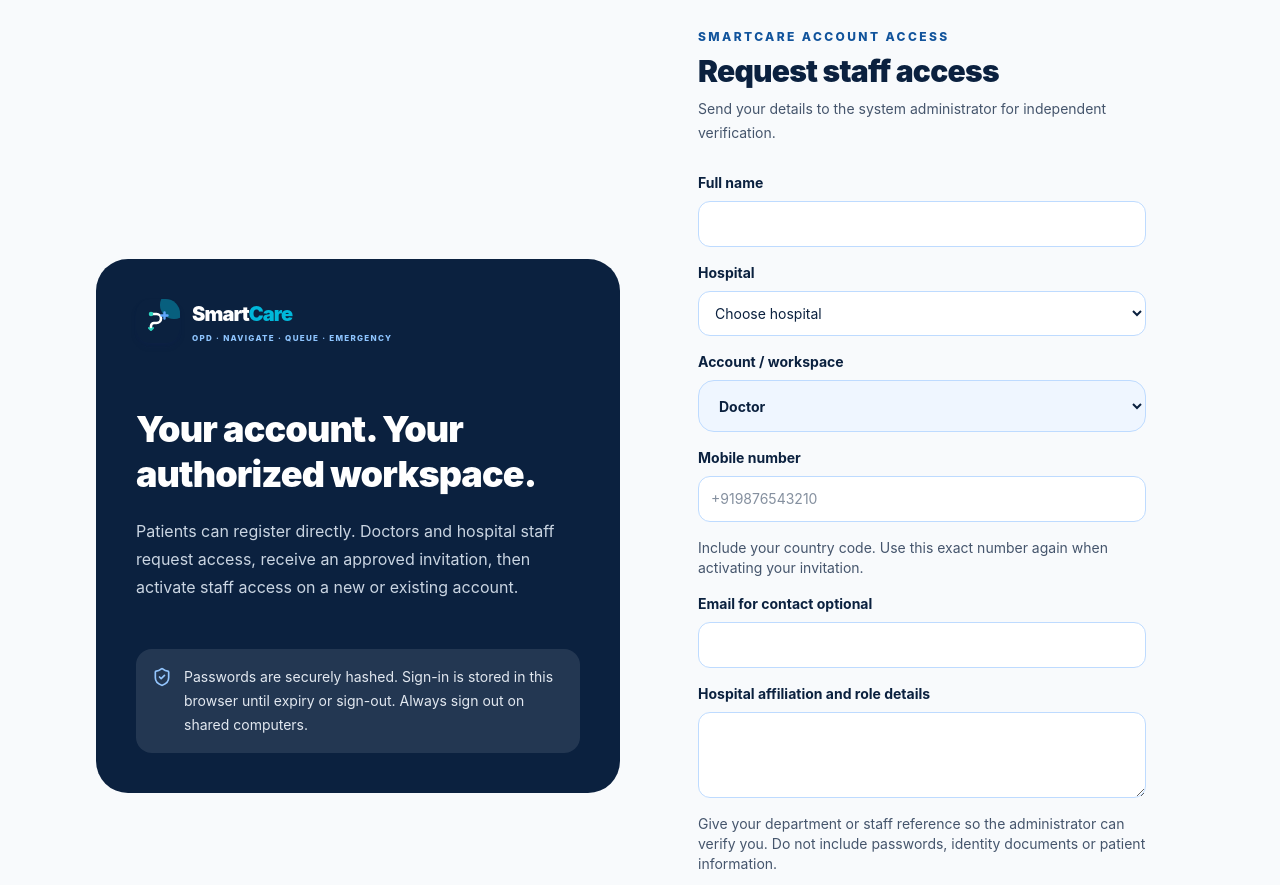
requests review without creating an account or claiming automatic code delivery
Type "Test Clerk" into the field labelled "Full name" at (922, 224), box [698,201,1146,247]
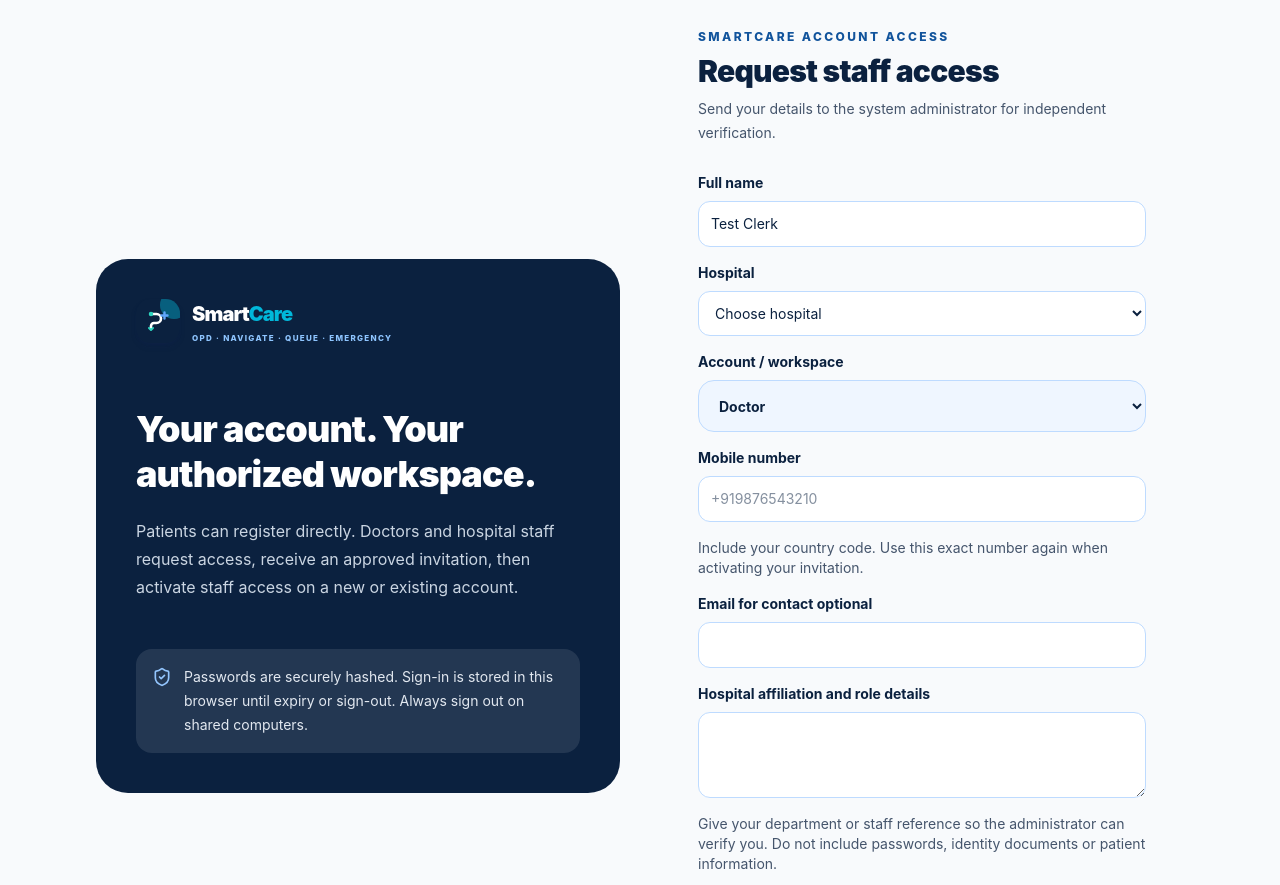
Select "Hospital" in the dropdown labelled "Hospital" at (922, 314), box [698,291,1146,336]
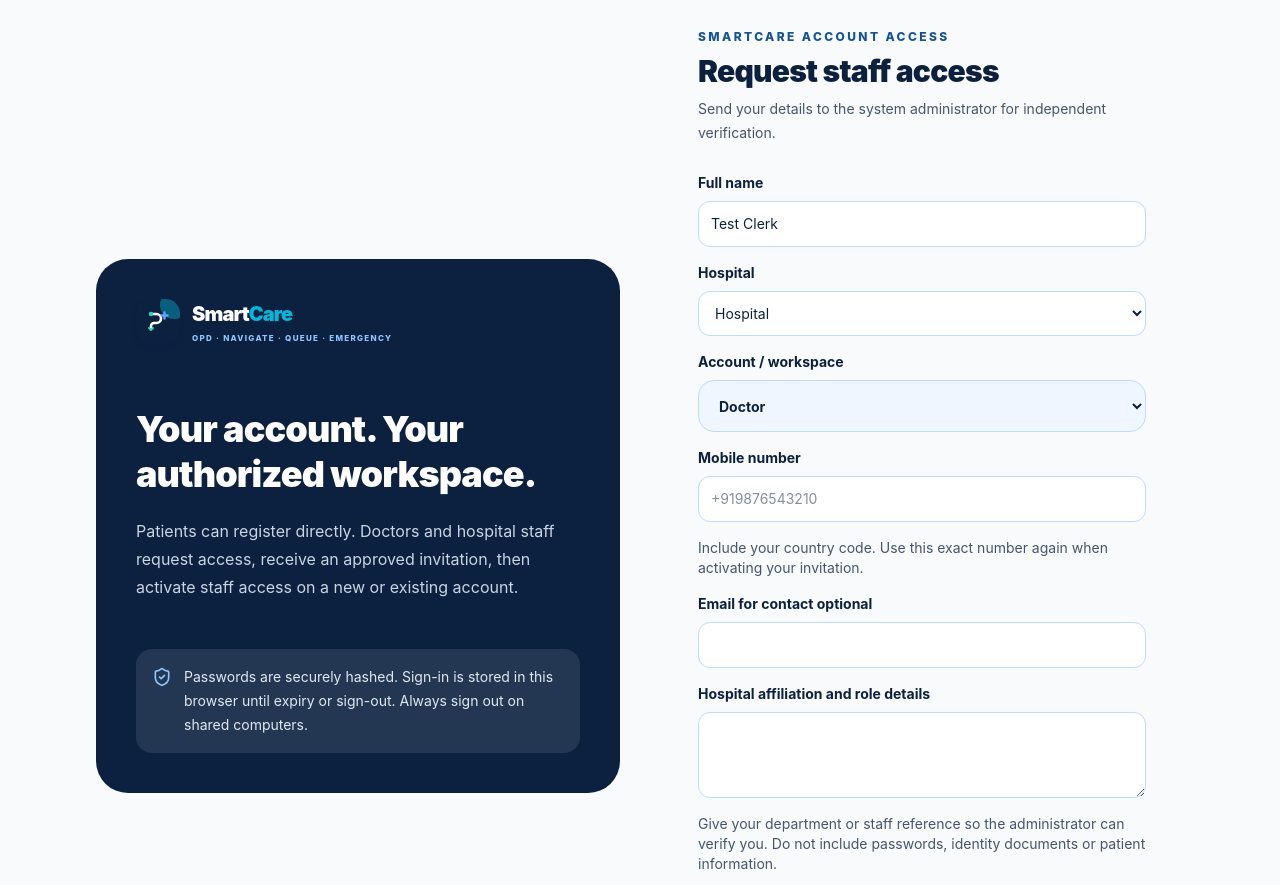
Select "Office clerk (desk & cash)" in the dropdown labelled "Account / workspace" at (922, 406), box [698,380,1146,432]
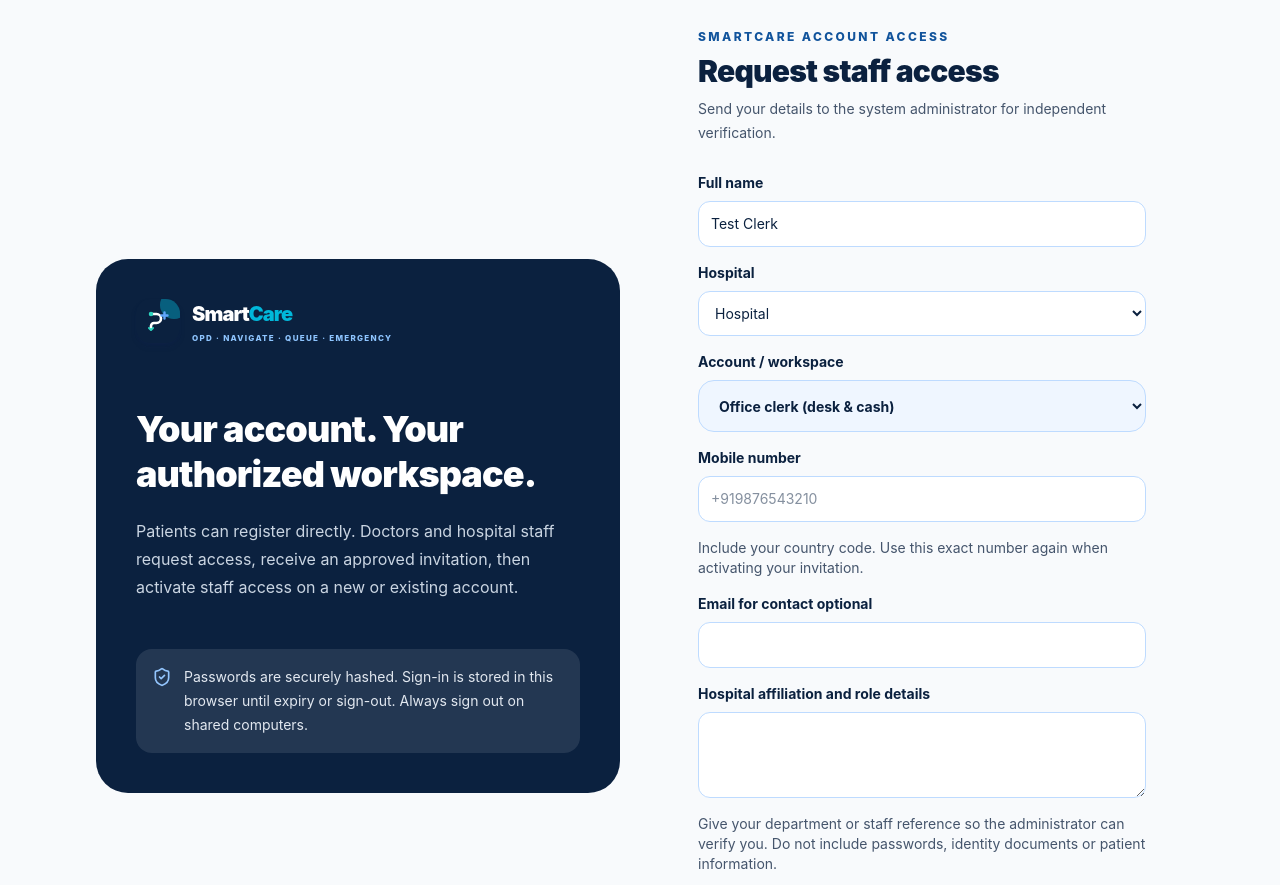
Type "+919000001111" into the field labelled "Mobile number" at (922, 499), box [698,476,1146,522]
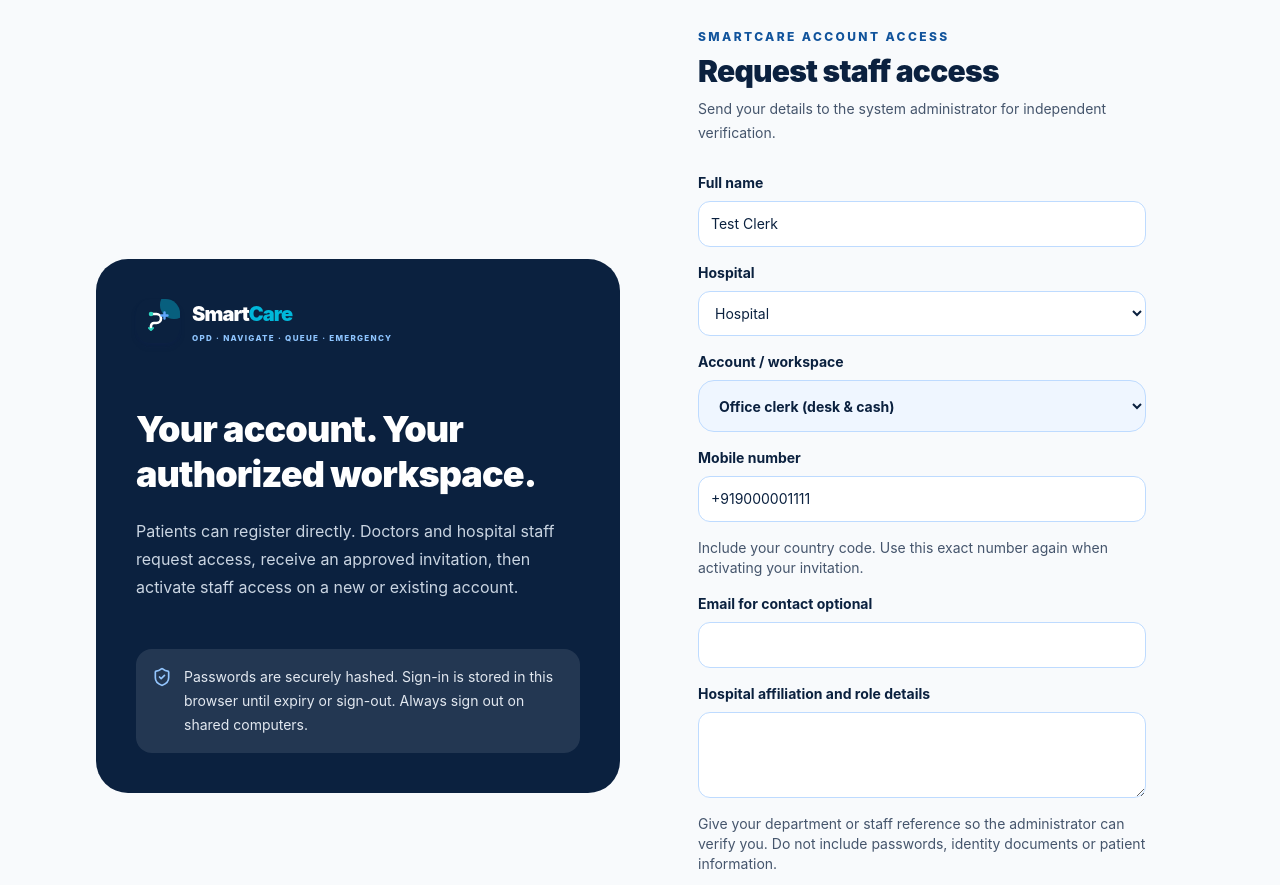
Type "Verified desk staff reference" into the text box labelled "Hospital affiliation and role details" at (922, 755), box [698,712,1146,798]
(page scrolled)
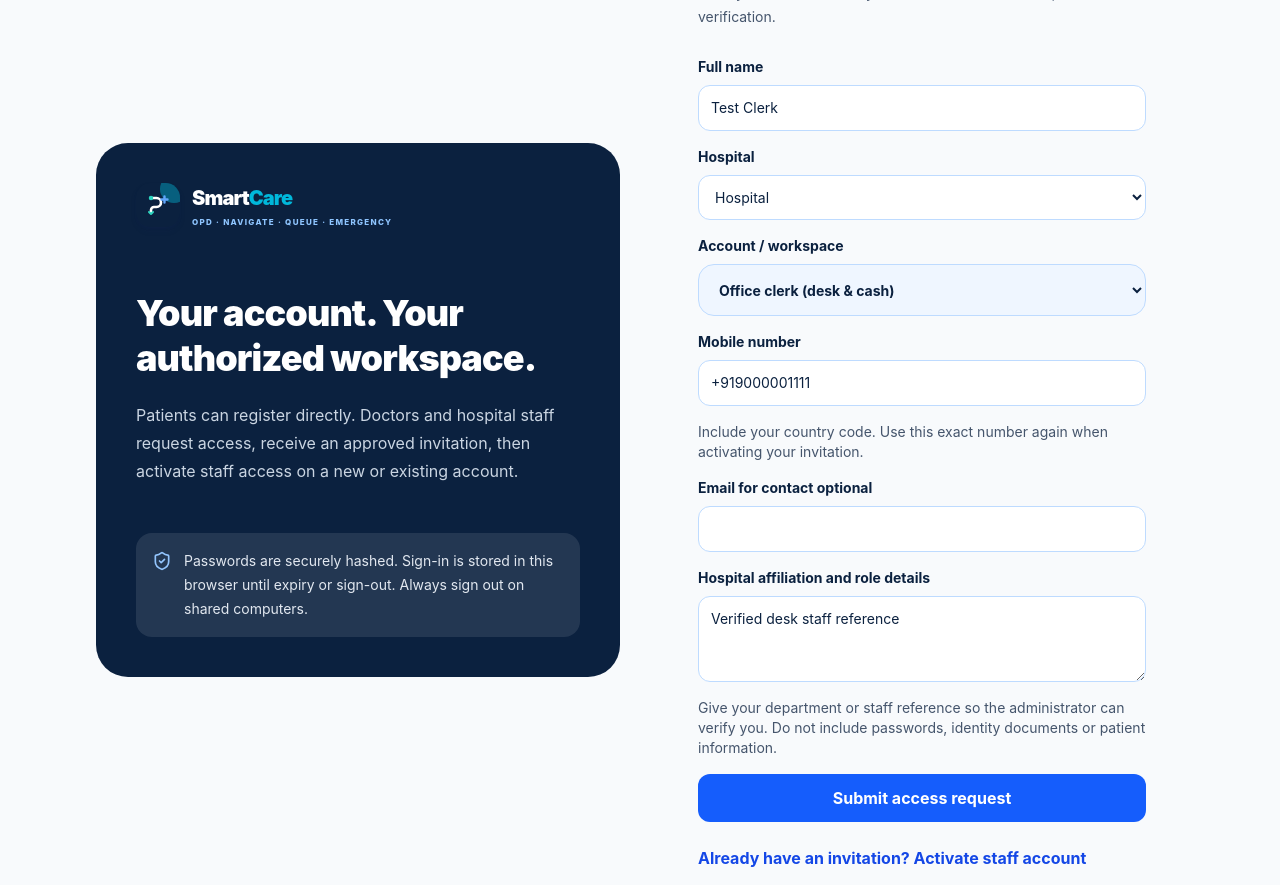
Submit the form named "Submit access request", box [698,57,1146,822]
(page scrolled)
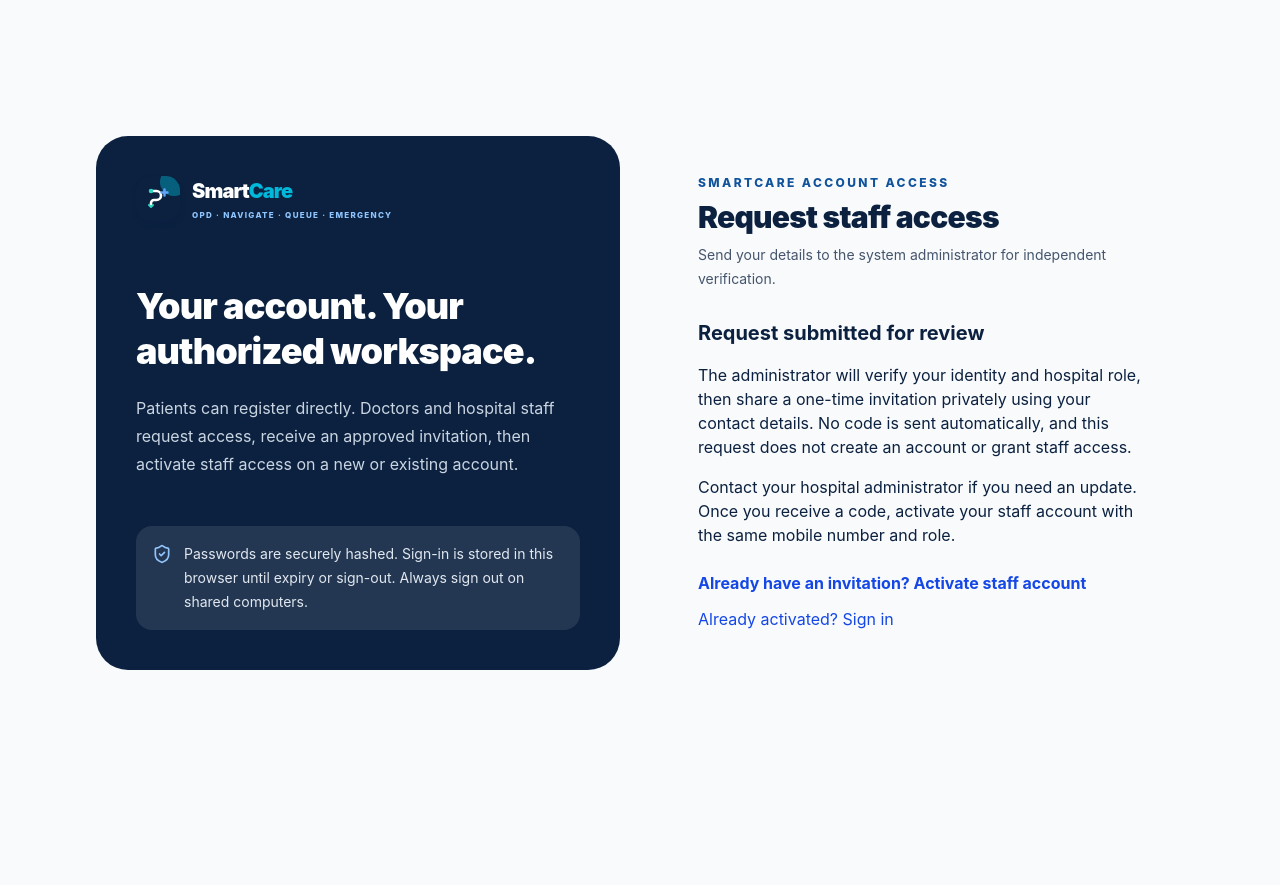
Expected: the message shows "No code is sent automatically", [698,365,1141,457]
